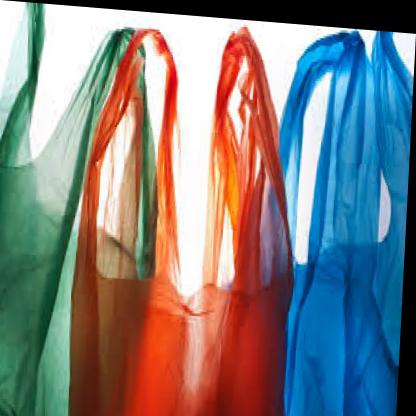Plastic: (72, 18, 302, 416), (244, 19, 413, 416), (0, 7, 152, 416)
